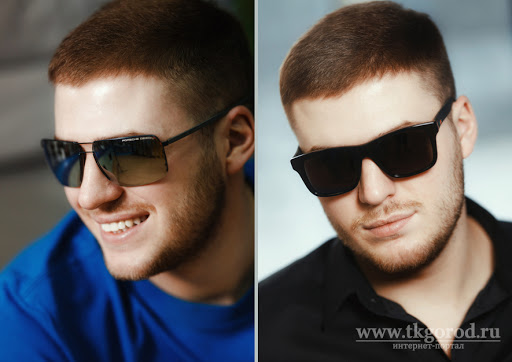glasses: (281, 121, 456, 198), (34, 120, 188, 197)
